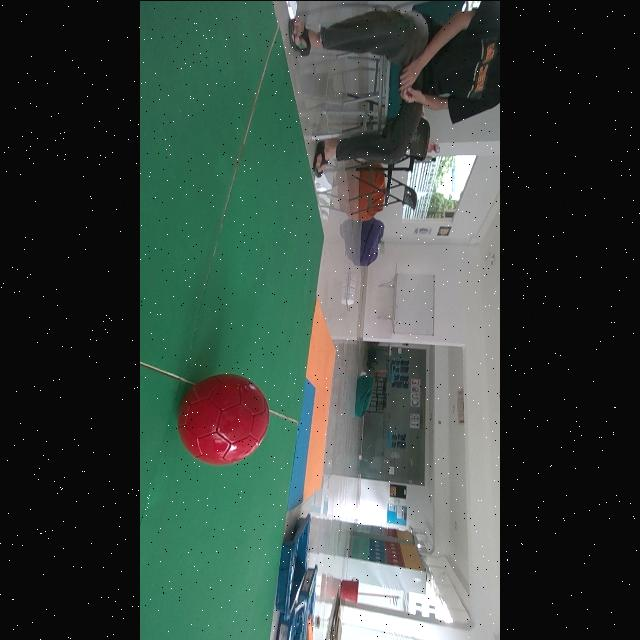R: (178, 373, 270, 465)
